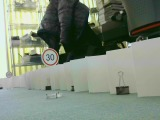speed_30: (40, 48, 59, 67)
